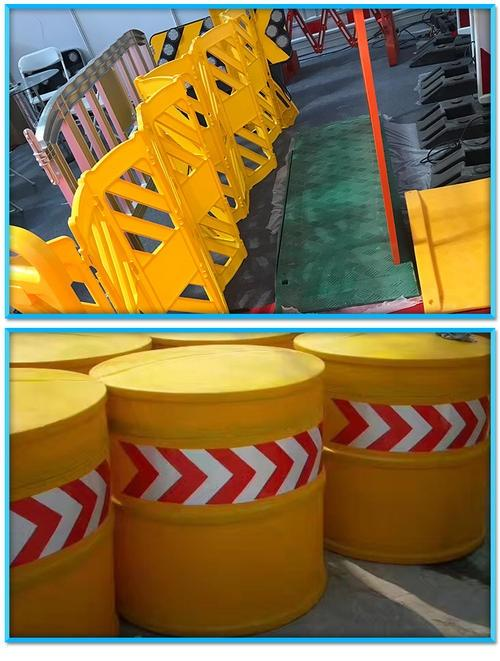cone_barrel: (105, 341, 326, 634), (291, 332, 485, 570), (9, 368, 111, 638)
